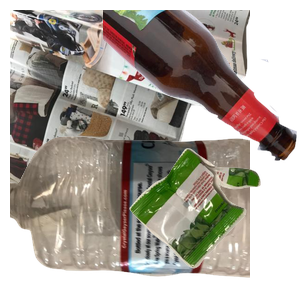glass: (103, 10, 300, 163)
paper: (10, 10, 250, 190)
plastic: (10, 134, 250, 300)
trash: (127, 146, 300, 300)
